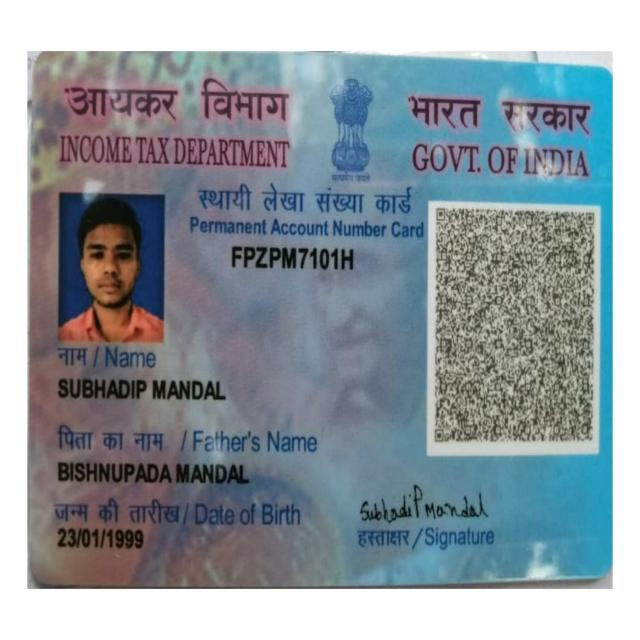pan_card: (37, 49, 612, 579)
